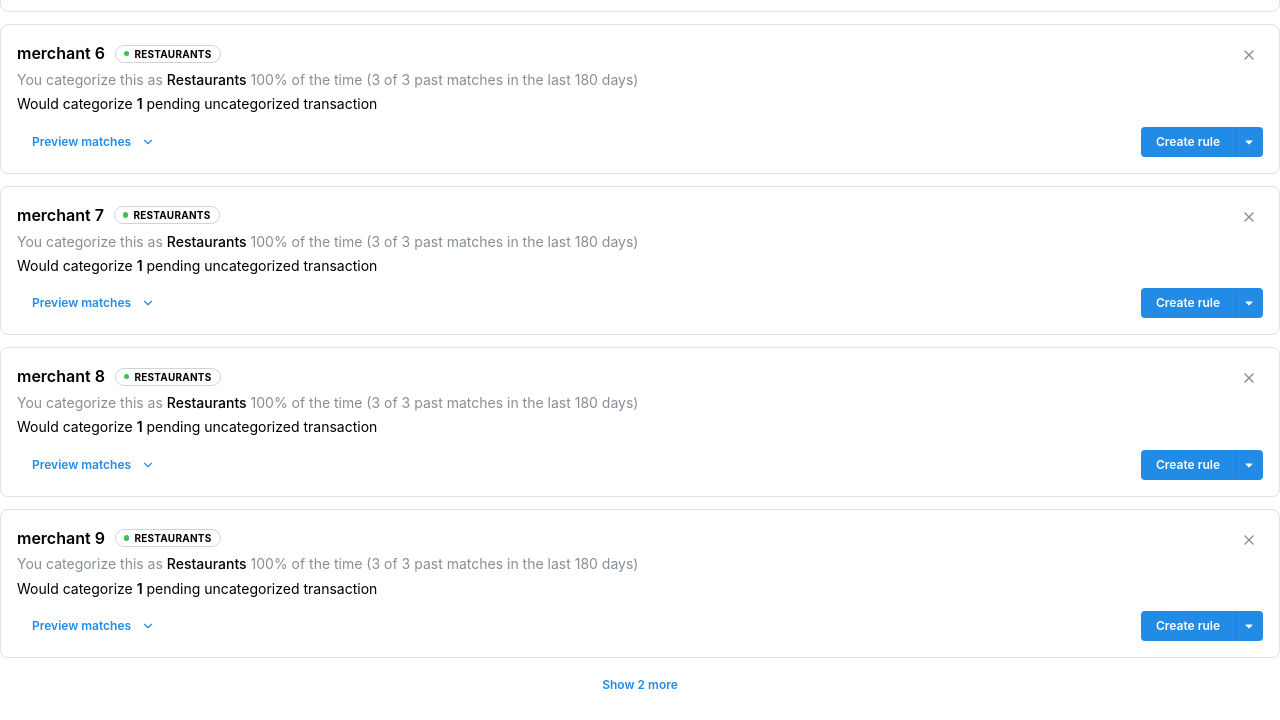
it: SuggestedRulesSection › shows "Show N more" when more than 10 visible suggestions exist
The width and height of the screenshot is (1280, 720).
(page scrolled)
expect the text "merchant 9" is shown: met, box top-left (17, 526), bottom-right (105, 550)
expect the text "merchant 10" is not shown: met
"Show 2 more" expands
Click the button "Show 2 more": (640, 685) top-left (587, 670), bottom-right (693, 700)
(page scrolled)
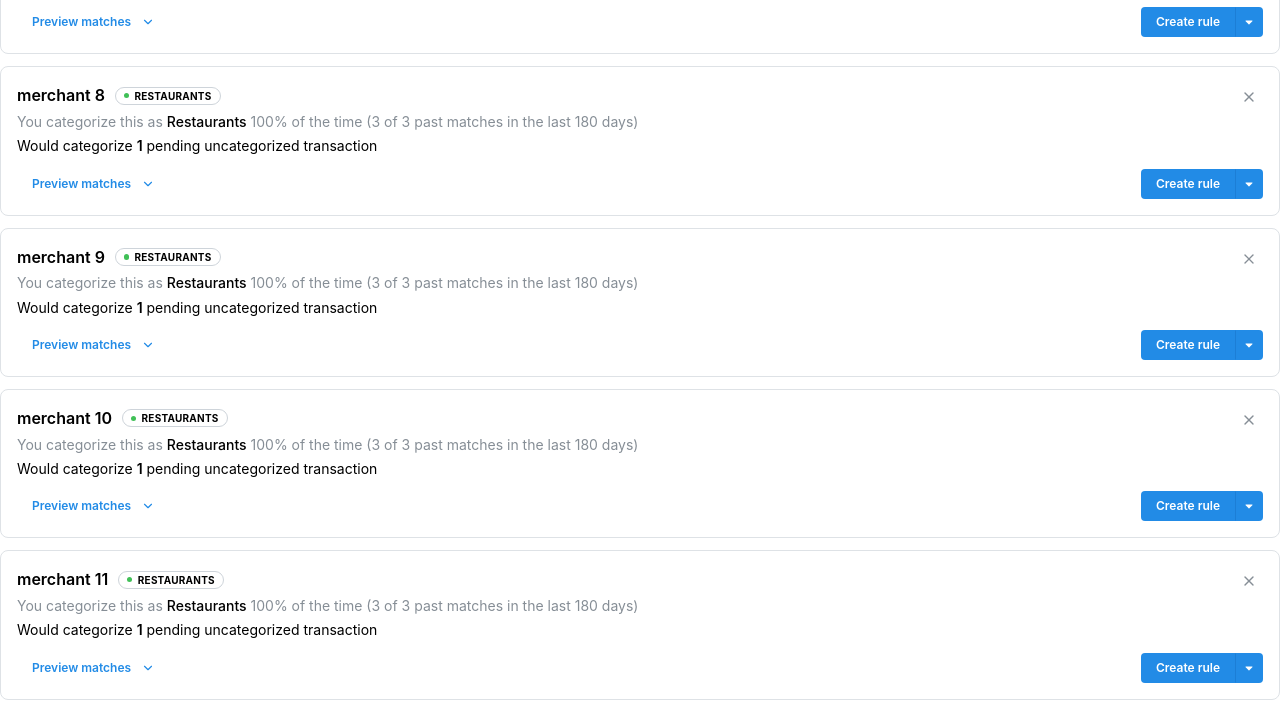
expect the text "merchant 10" is shown: met, box top-left (17, 406), bottom-right (112, 431)
expect the text "merchant 11" is shown: met, box top-left (17, 567), bottom-right (108, 592)
